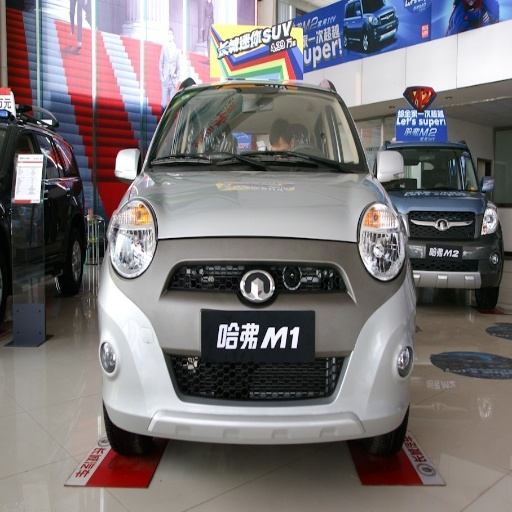front_bumper: (99, 200, 502, 443)
front_right_light: (109, 200, 156, 277)
hood: (136, 168, 382, 242)
